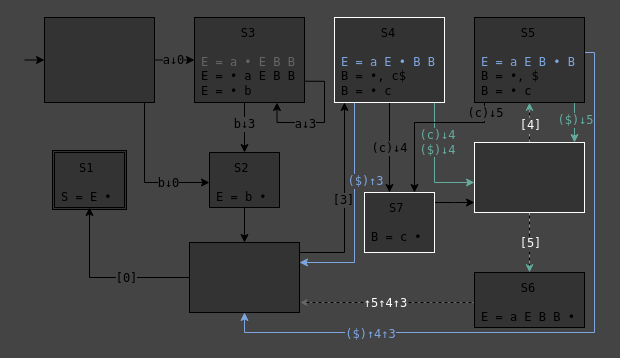
Some shapes in this 620 by 358 pixel diagram are drawn without their labels. The centre of each missing label's shape, as x and y in pixels:
"BGoto E = a E • B B E = a E B • B" goes at point 529,177.
"EGoto S = • E E = a • E B B" goes at point 244,277.
"S0 S = • E E = • a E B B E = • b" goes at point 99,59.
